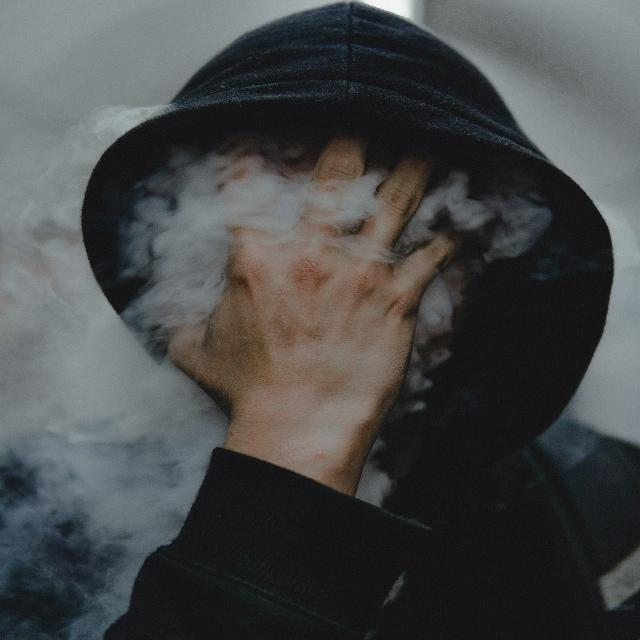adult: (105, 108, 475, 640)
